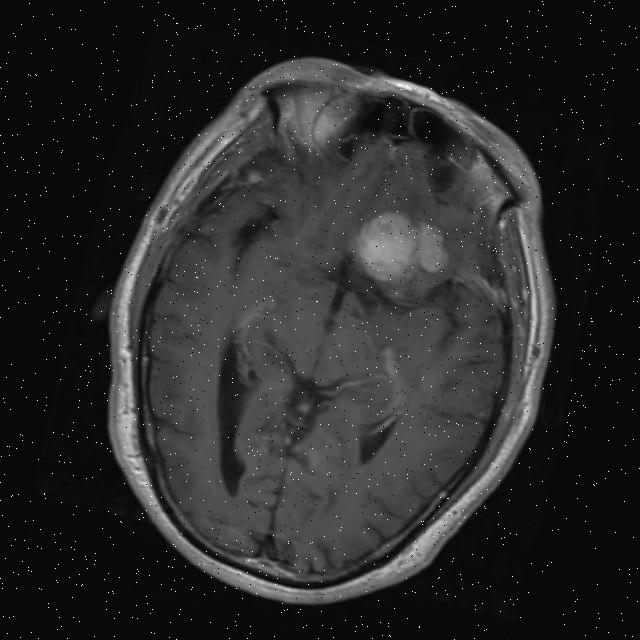Meningioma: (348, 201, 457, 299)
